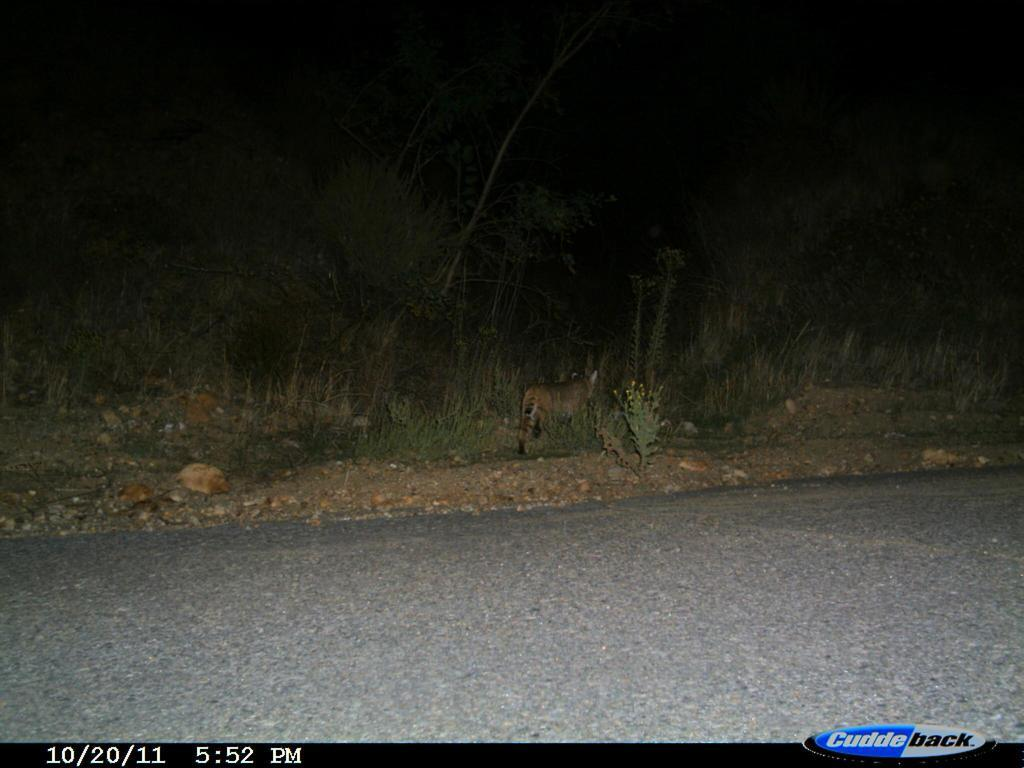bobcat: (519, 364, 602, 457)
